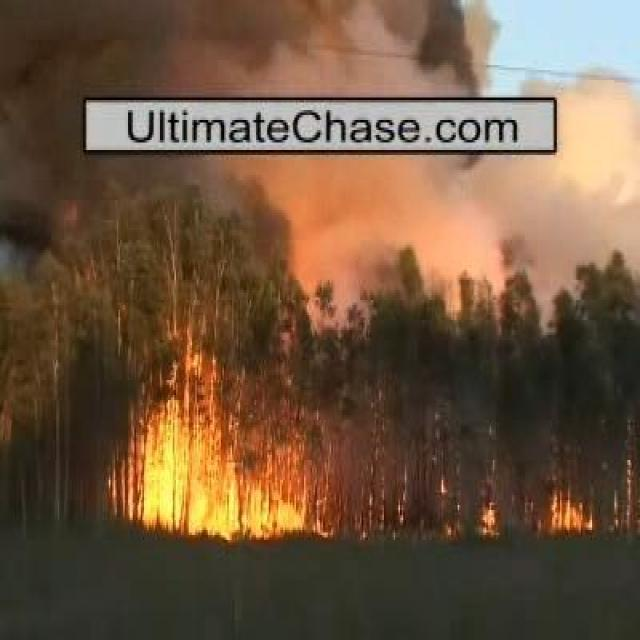fire: (135, 432, 226, 526), (549, 503, 588, 536), (479, 496, 496, 537)
smoke: (70, 5, 482, 94), (314, 156, 588, 252)
